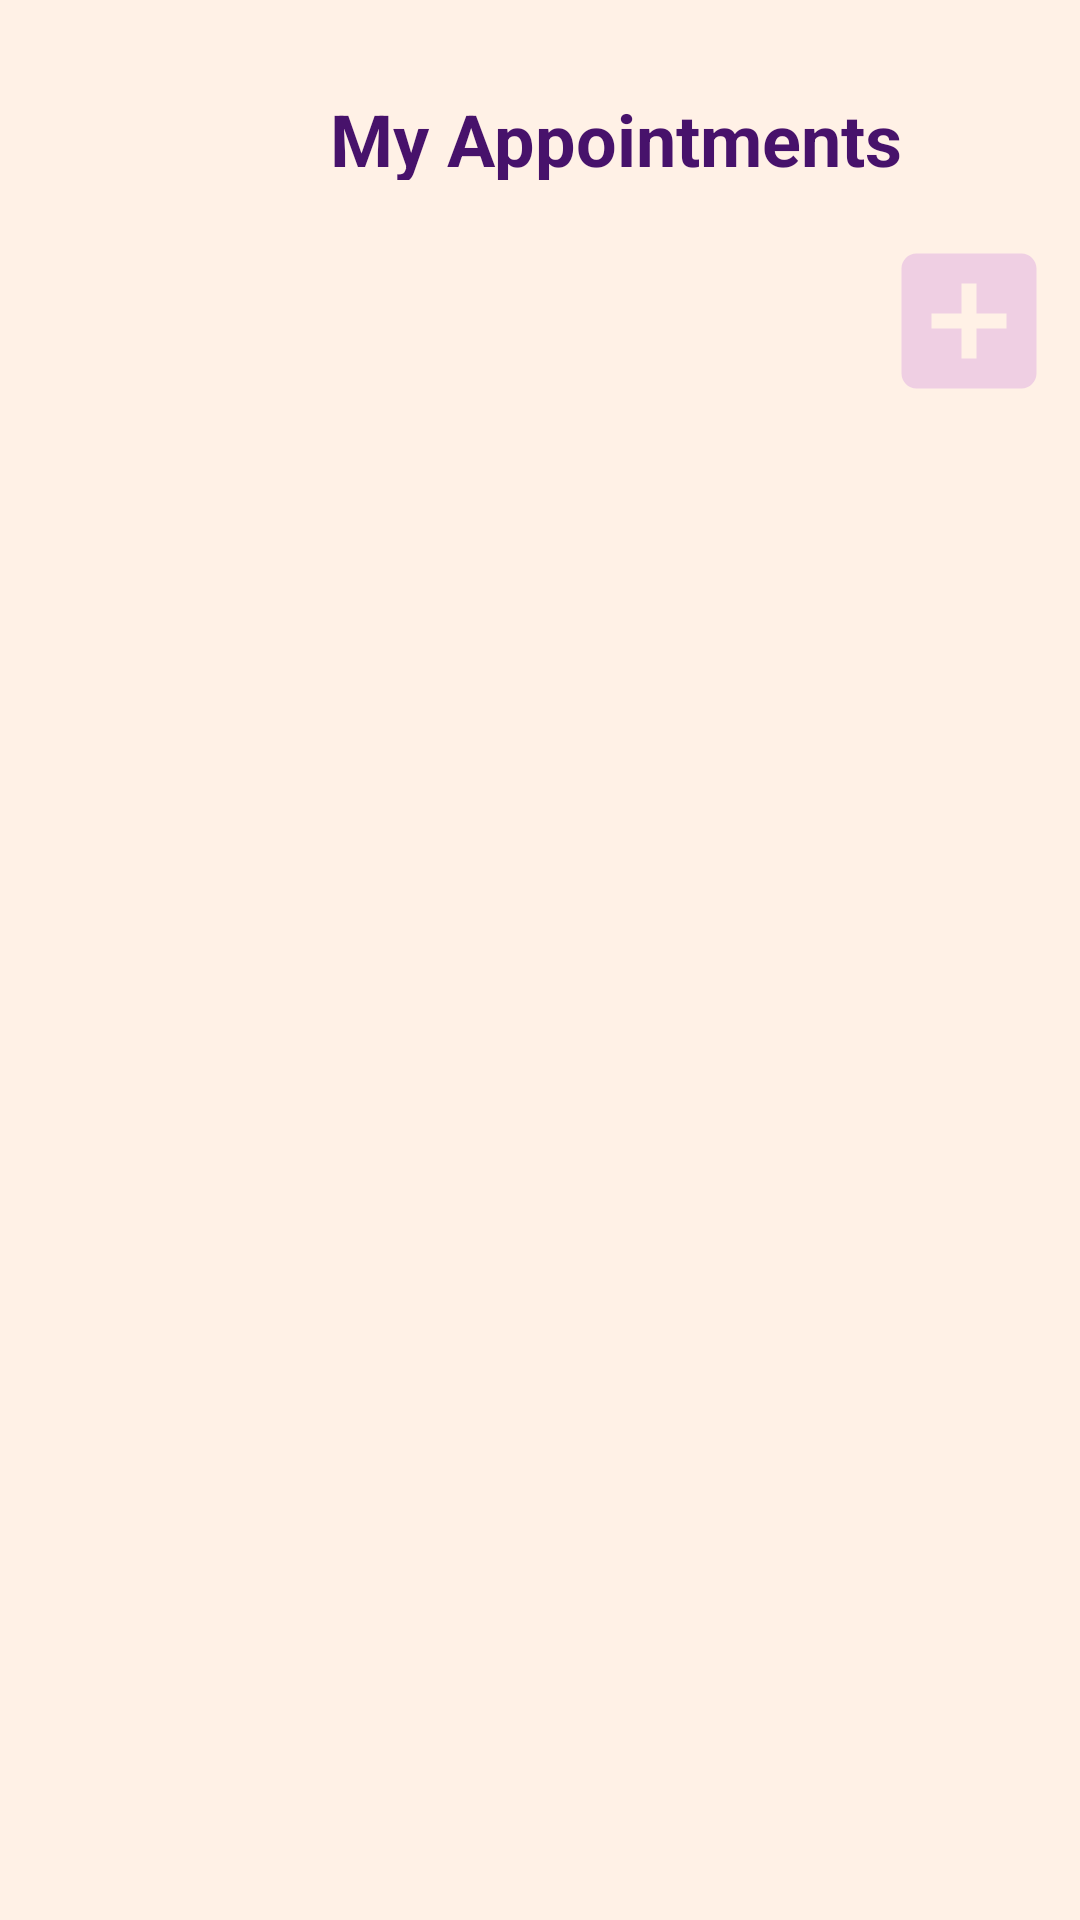

Icons on this 1080w x 1920h Android screen, each with its box as (left=x1, top=y1, right=x2, bottom=y2):
add: (left=902, top=254, right=1036, bottom=388)
